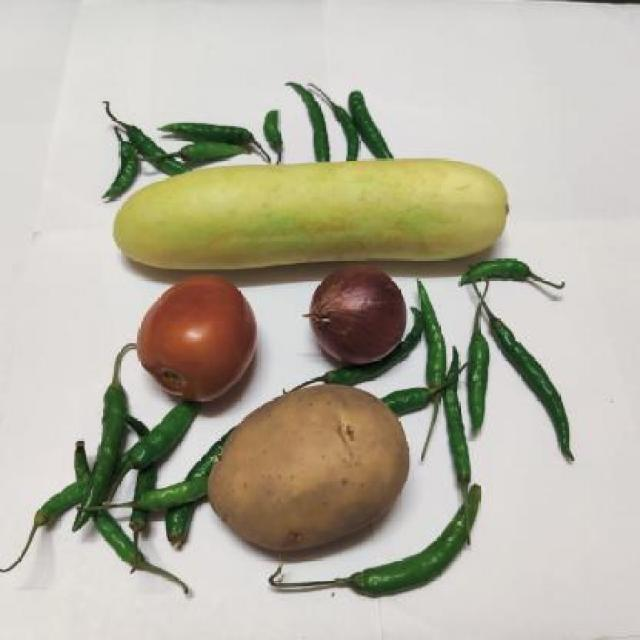Green Chili: (414, 278, 596, 488), (5, 398, 194, 580), (92, 88, 402, 182)
Onion: (304, 262, 412, 368)
Potato: (204, 384, 410, 554)
Tomato: (136, 272, 266, 406)
cucumber: (100, 155, 536, 268)
